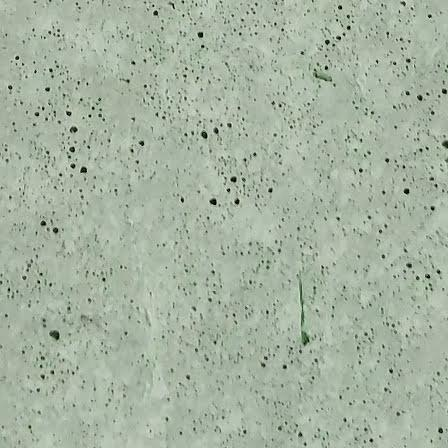spalling: (292, 281, 314, 348), (45, 323, 65, 342)
